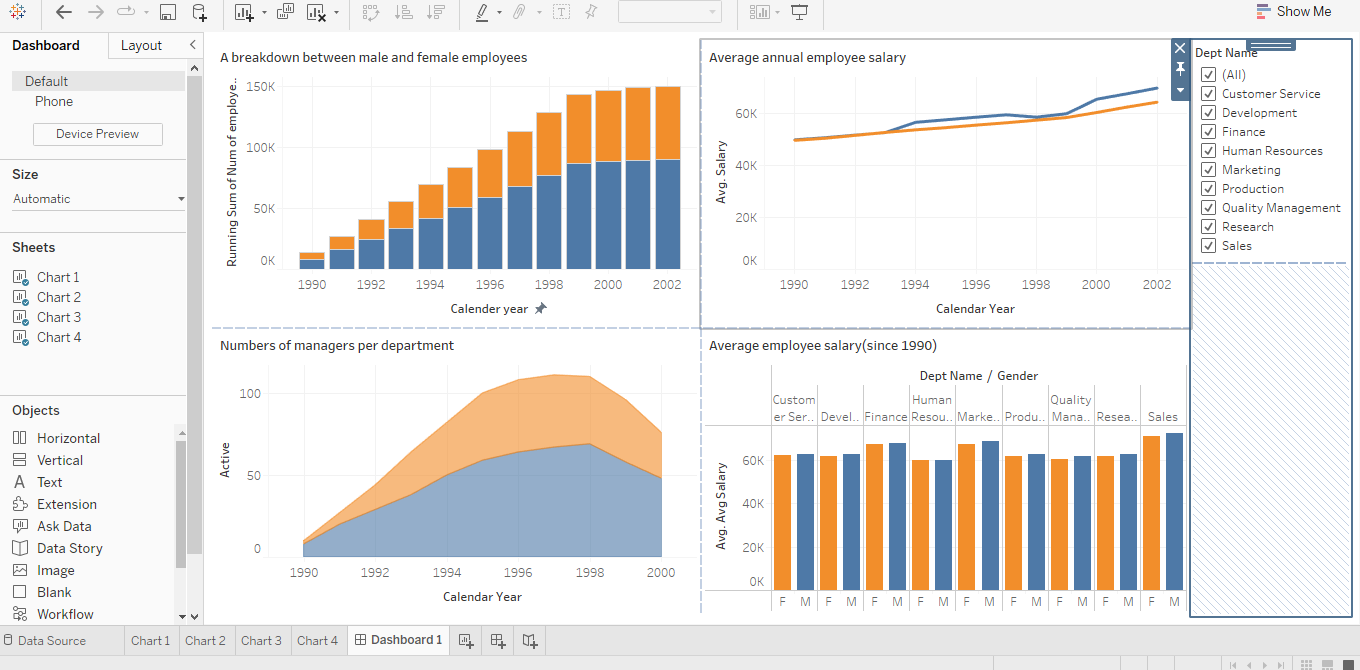

This screenshot's page, from the dashboard's own definition file:
{"tool":"tableau","page":{"name":"Dashboard 1","canvas":[1000,1000],"units":"permille","ordinal":0},"visuals":[{"type":"worksheet","title":"Chart 1","mark":"Bar","rows":["Num_of_employees"],"cols":["Calender_year"],"box":[6.9,13.5,423.8,486.5]},{"type":"worksheet","title":"Chart 3","mark":"Automatic","rows":["salary"],"cols":["calendar_year"],"box":[430.7,13.5,423.8,486.5]},{"type":"filter","title":"Chart 3","param":"[federated.11ibncq0sglh7e149r1et0cphs0a].[none:dept_name:nk]","box":[854.5,13.5,138.5,375]},{"type":"worksheet","title":"Chart 2","mark":"Area","rows":["Active"],"cols":["calendar_year"],"box":[6.9,500,423.8,486.5]},{"type":"worksheet","title":"Chart 4","mark":"Automatic","rows":["avg_salary"],"cols":["dept_name","gender"],"box":[430.7,500,423.8,486.5]}]}

Visuals, with their boxes on the dashboard's canvas, which has no fixed pixel size, in thousandths of its width and height (x1, y1, x2, y2). These are canvas units, not pixel positions in the 1360x670 screenshot, which may show the page scaled, cropped or inside an application window:
"Chart 1" worksheet (Bar marks): x1=7 y1=14 x2=431 y2=500
"Chart 3" worksheet: x1=431 y1=14 x2=854 y2=500
"Chart 3" filter: x1=854 y1=14 x2=993 y2=388
"Chart 2" worksheet (Area marks): x1=7 y1=500 x2=431 y2=986
"Chart 4" worksheet: x1=431 y1=500 x2=854 y2=986
